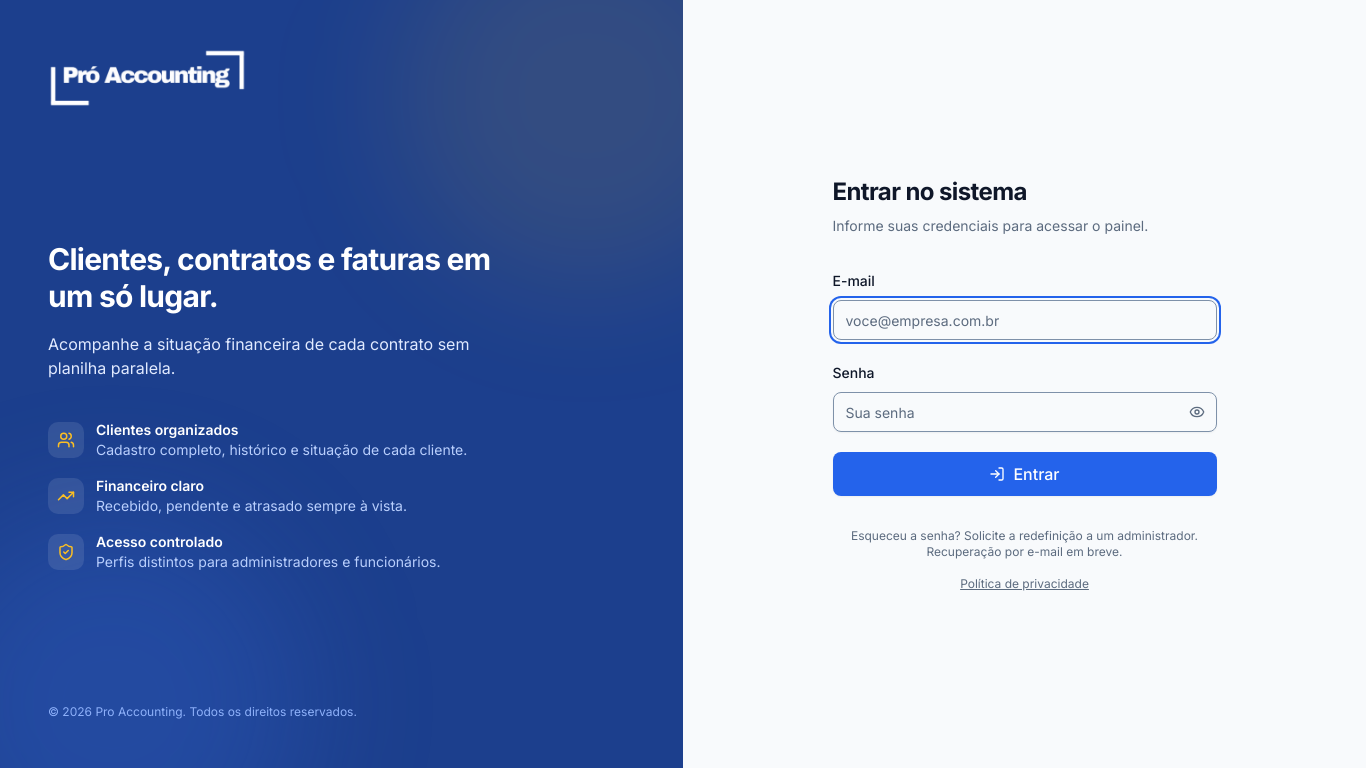
Test: tela de login › entra, guarda o token e vai para o painel
Type "ana@escritorio.com.br" into the field labelled "E-mail".
click(1024, 320); type("ana@escritorio.com.br")  # box [832,300,1216,340]
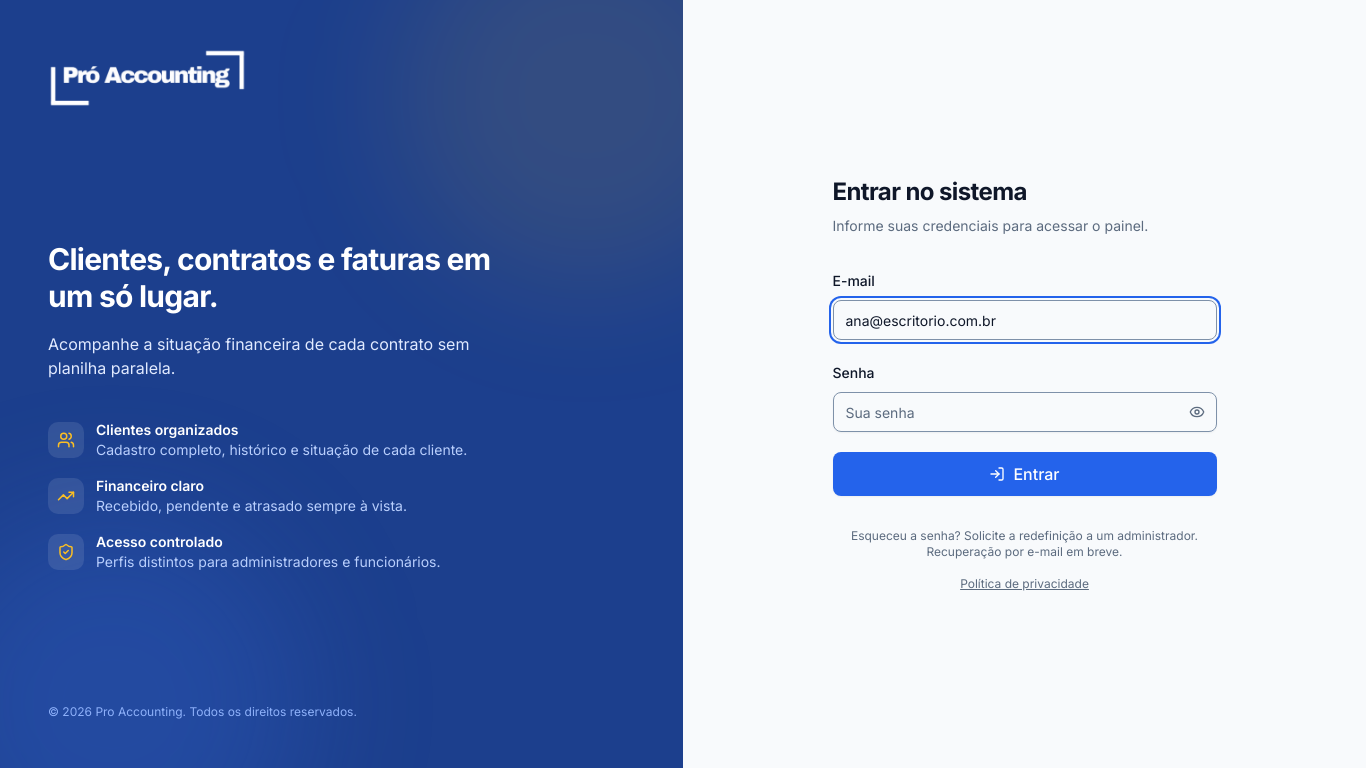
Type "Senha@123" into the password field labelled "Senha".
click(1024, 412); type("Senha@123")  # box [832,392,1216,432]
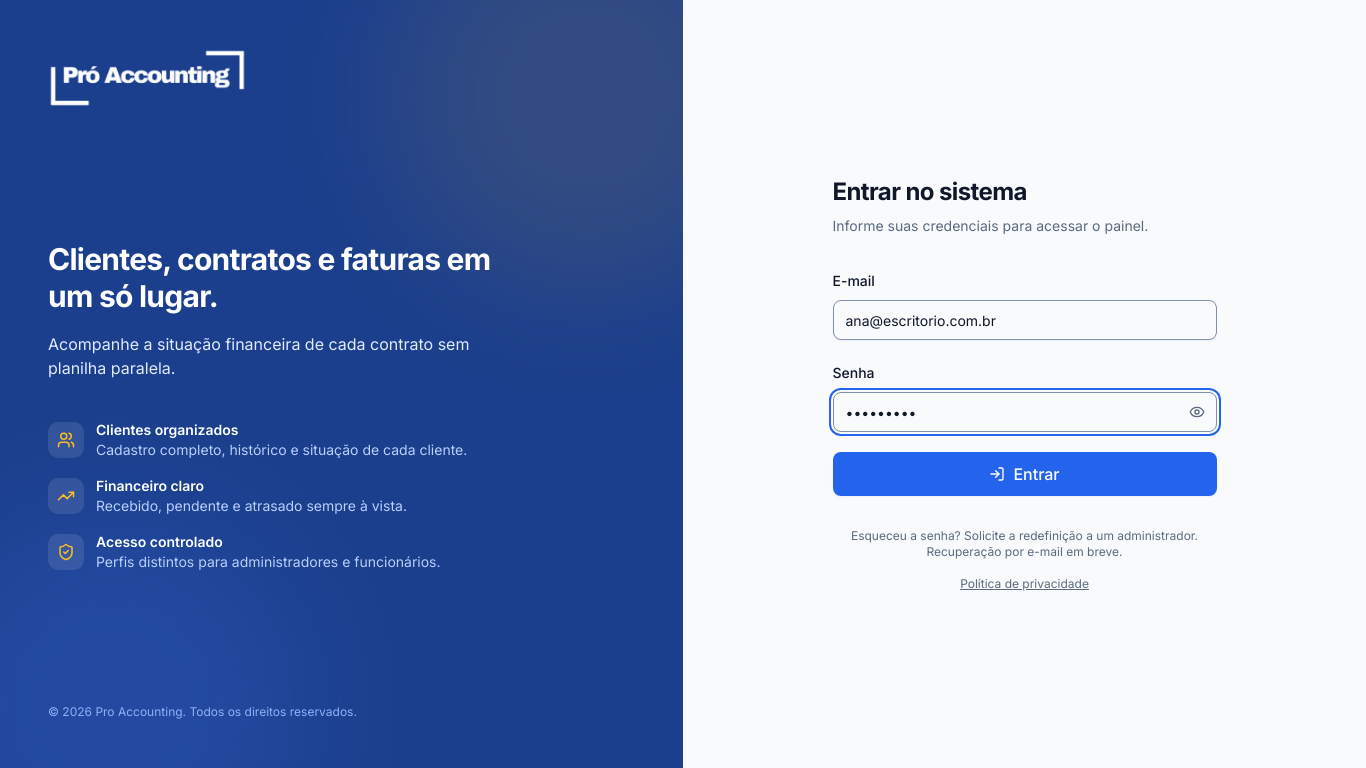
Click the button "Entrar".
click(1024, 474)  # box [832,452,1216,496]
(page scrolled)
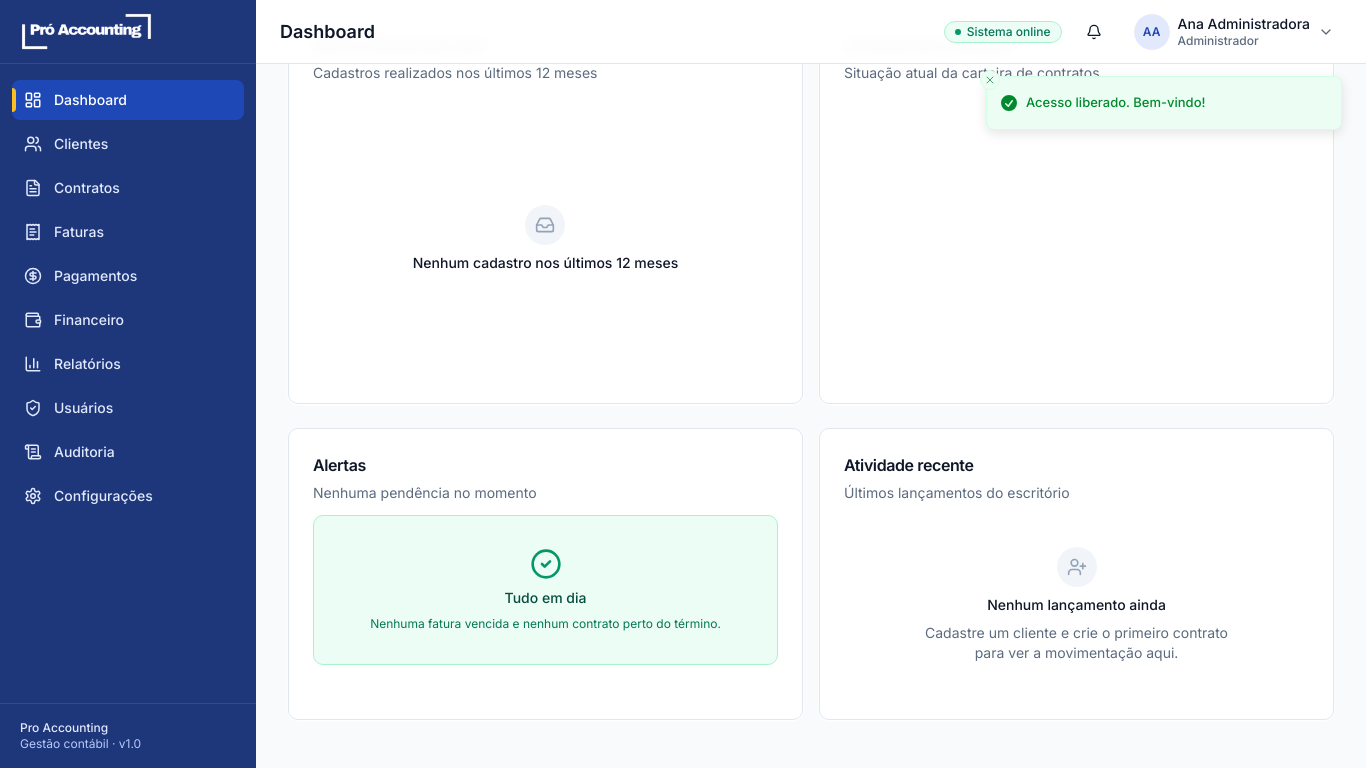
Now the text with test id "location" reads "/dashboard", box [0,746,86,766]
